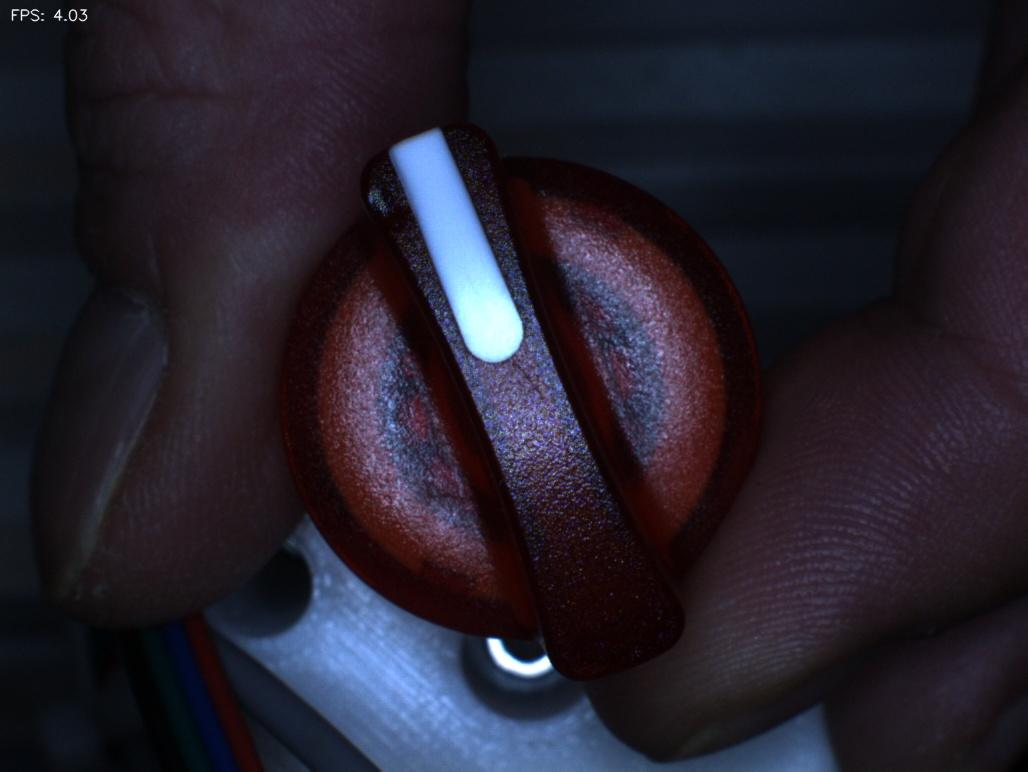Choc: (332, 161, 413, 243)
